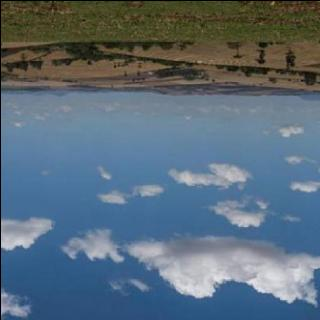Stratus: (0, 119, 320, 320)
